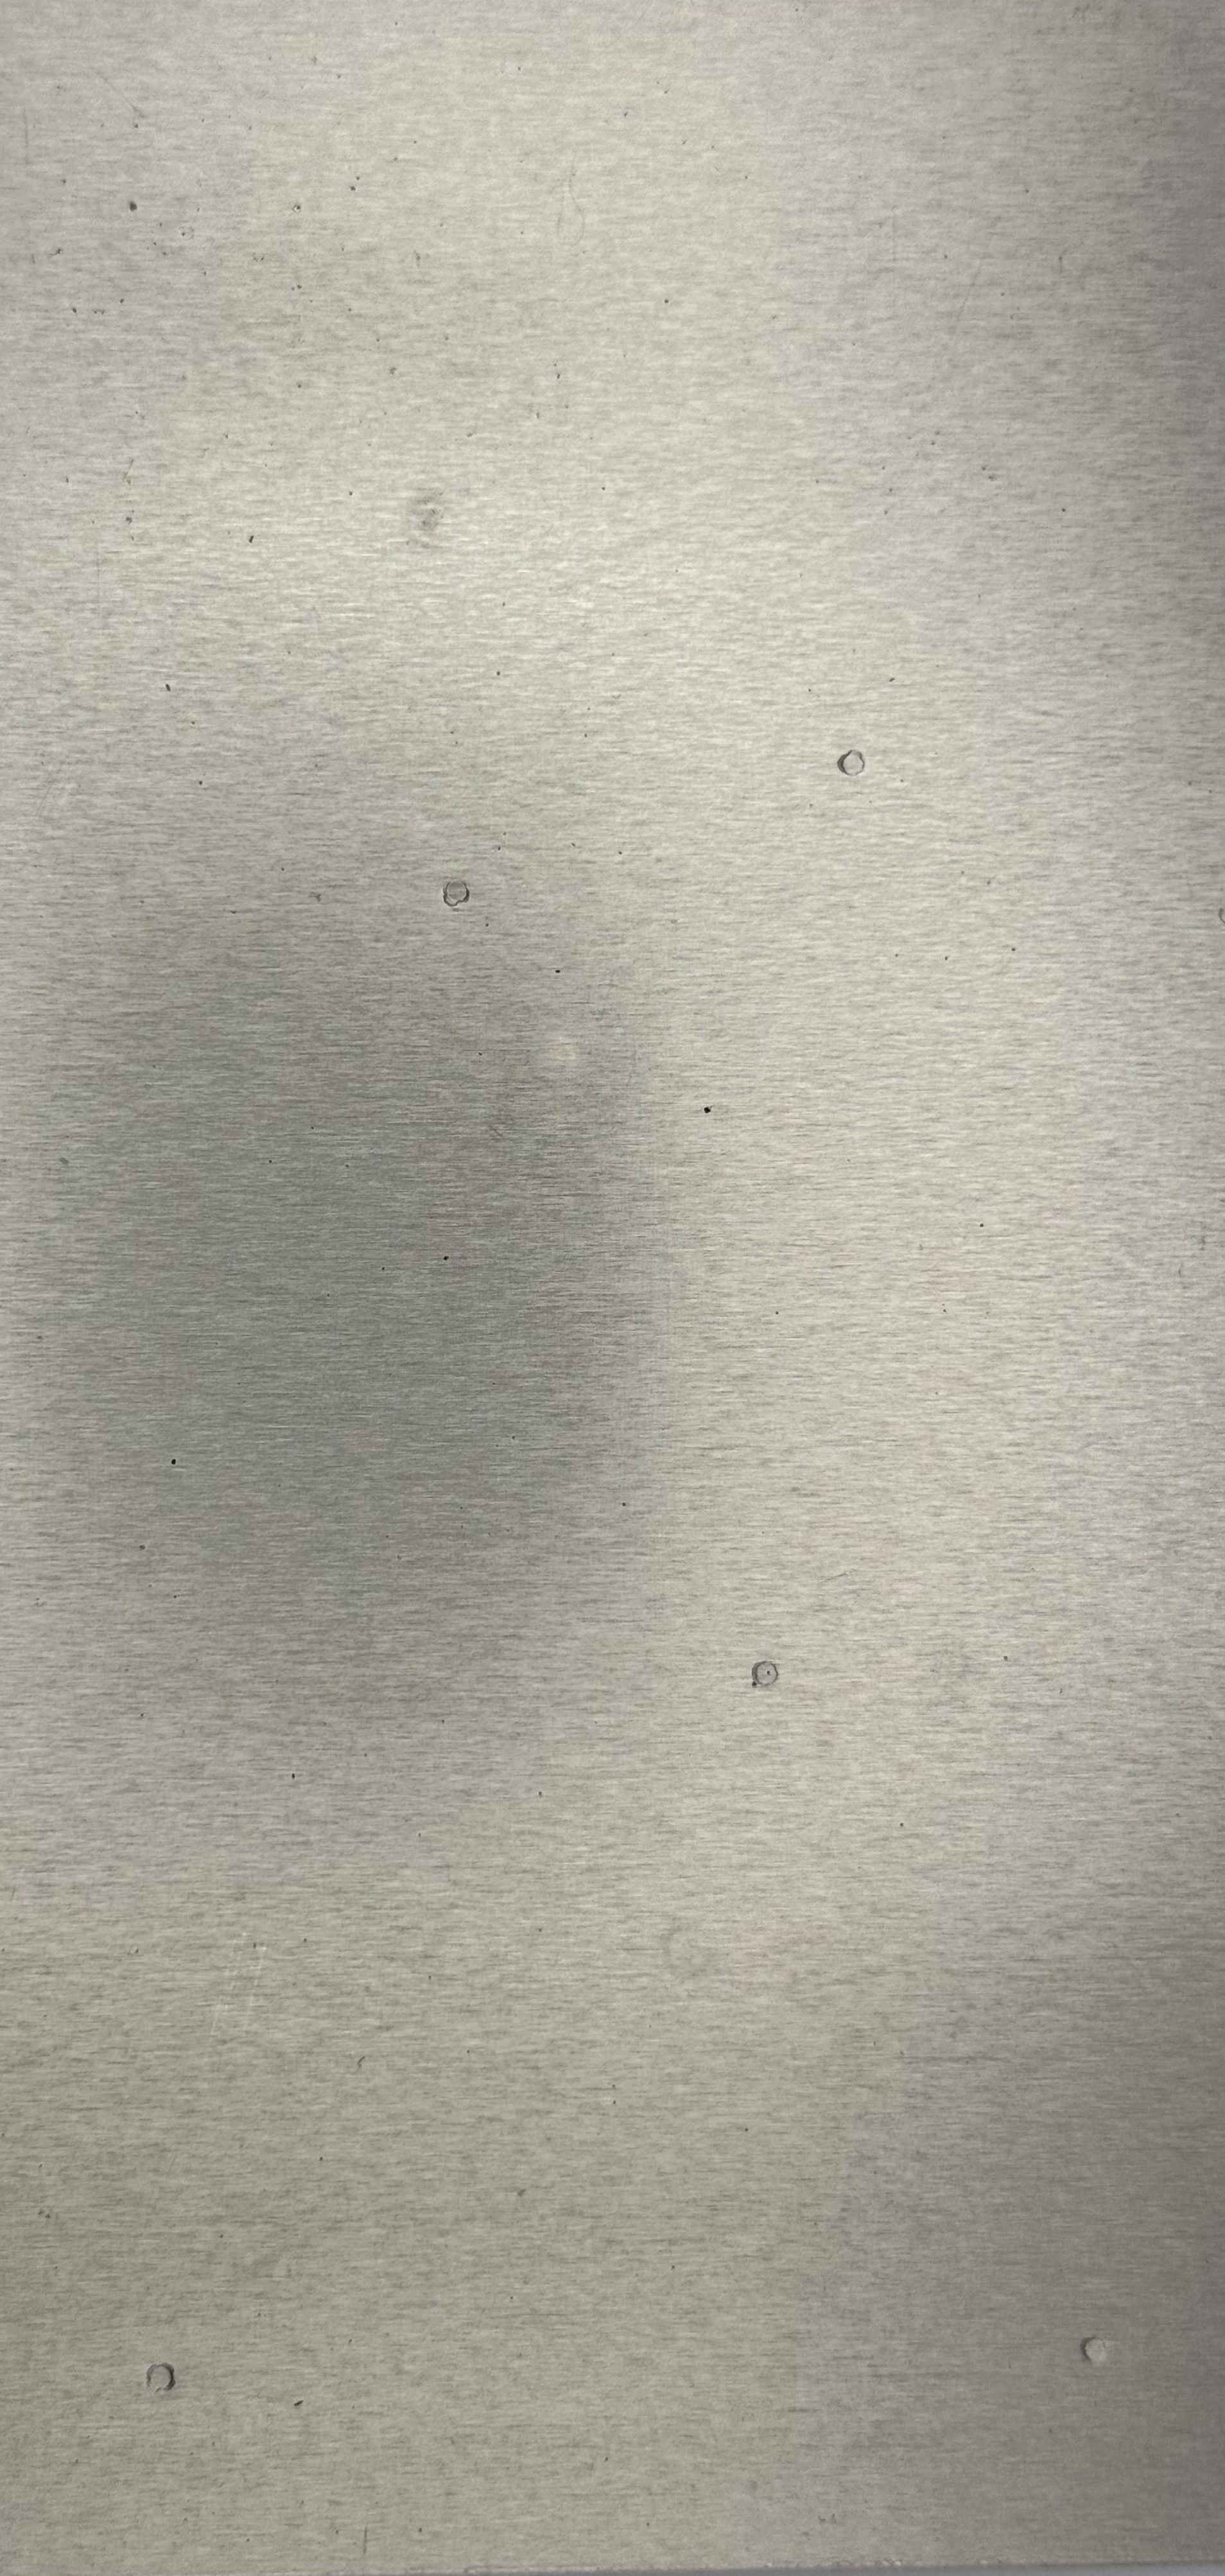Delle: (363, 468, 493, 577), (892, 1615, 1002, 1709), (640, 1902, 736, 2003), (511, 1020, 599, 1111), (806, 726, 887, 790), (1058, 2325, 1140, 2382), (424, 862, 491, 930), (135, 2348, 195, 2412), (741, 1644, 788, 1705)
